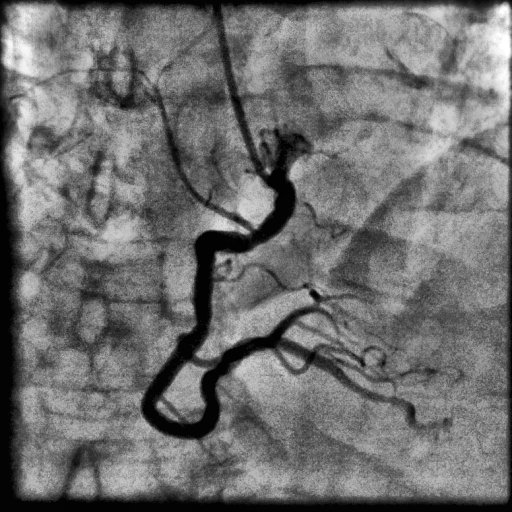pborca: (268, 306, 340, 337)
pda: (272, 337, 450, 433)
rca: (141, 180, 296, 439)
